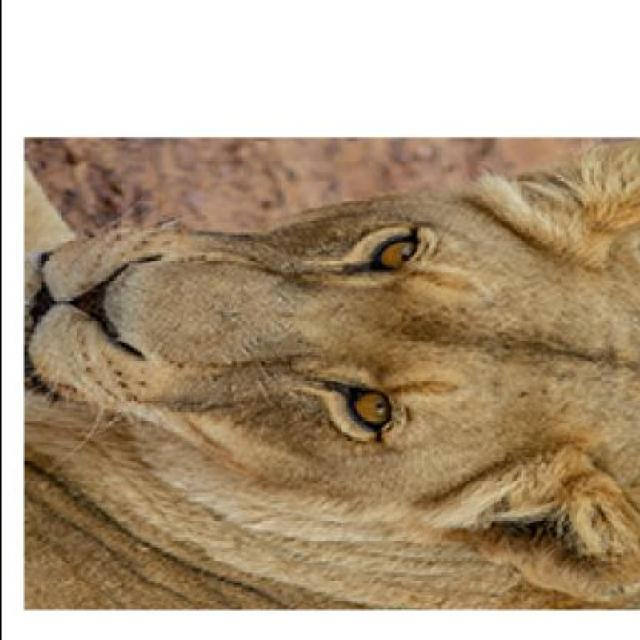Lion: (3, 100, 639, 638)
